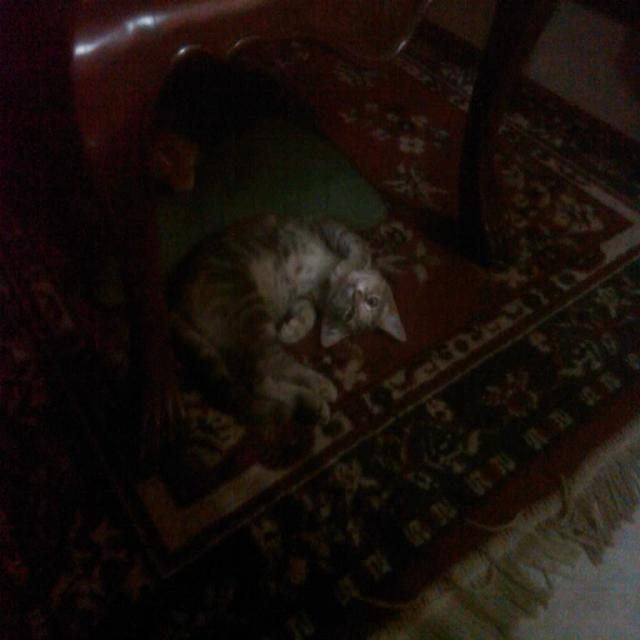Cat: (152, 190, 414, 440)
